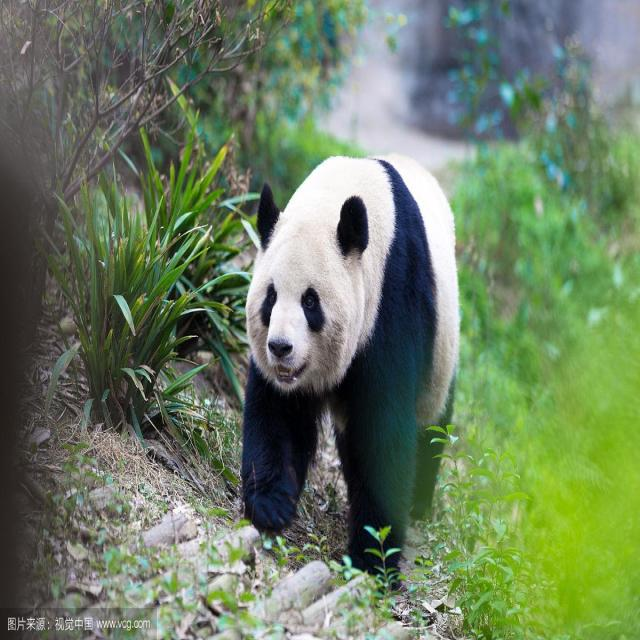panda: (236, 145, 464, 593)
